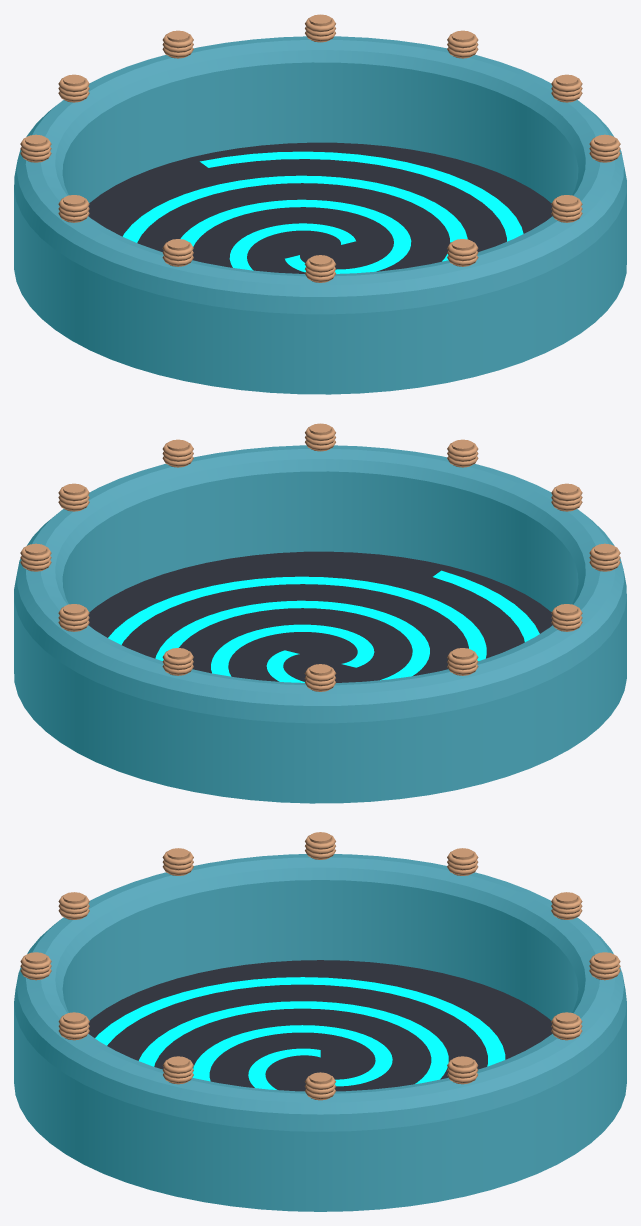
The picture shows the model from 3 angles, top to bottom: view 1: azimuth 30°, elevation 25°; view 2: azimuth 150°, elevation 25°; view 3: azimuth 270°, elevation 25°; orthographic projection.
Parts seen in each view (by area): view 1: magSpinWell, magSpinFloor, magSpinFloorSpiral, magSpinRingDetail; view 2: magSpinWell, magSpinFloor, magSpinFloorSpiral, magSpinRingDetail; view 3: magSpinWell, magSpinFloor, magSpinFloorSpiral, magSpinRingDetail.
Part boxes in pixels (box(x1,y1,x2,y2)): magSpinWell: box(14, 36, 626, 394); magSpinFloor: box(88, 142, 552, 273); magSpinFloorSpiral: box(122, 151, 523, 273); magSpinRingDetail: box(20, 14, 620, 282); magSpinWell: box(14, 445, 626, 803); magSpinFloor: box(88, 551, 552, 682); magSpinFloorSpiral: box(108, 570, 539, 682); magSpinRingDetail: box(20, 423, 620, 691); magSpinWell: box(14, 854, 626, 1211); magSpinFloor: box(88, 960, 552, 1091); magSpinFloorSpiral: box(95, 977, 505, 1089); magSpinRingDetail: box(20, 832, 620, 1100).
Bounding box in the file's own units: 4.16 × 0.94 × 4.16.
